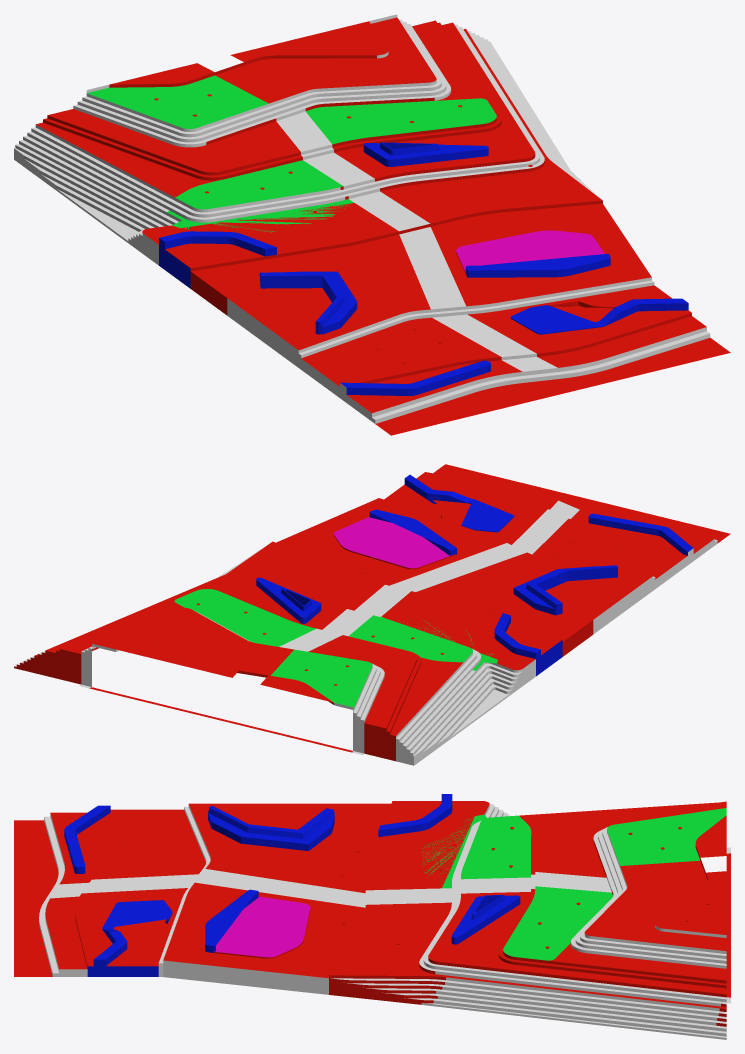
File: GG_ContraConcepts_Merel_Bongers_Updated.fbx
The picture shows the model from 3 angles, top to bottom: view 1: azimuth 30°, elevation 25°; view 2: azimuth 150°, elevation 25°; view 3: azimuth 270°, elevation 25°; orthographic projection. The views are drawn at different scales.
Parts seen in each view (by area): view 1: GG_ContraConcepts_Merel Bongers; view 2: GG_ContraConcepts_Merel Bongers; view 3: GG_ContraConcepts_Merel Bongers.
Boxes of the visible parts, x1,y1,x2,y2 form: GG_ContraConcepts_Merel Bongers: (14,14,730,435); GG_ContraConcepts_Merel Bongers: (14,464,730,765); GG_ContraConcepts_Merel Bongers: (14,794,730,1039).
Bounding box in the file's own units: 2886 × 306 × 3984.
